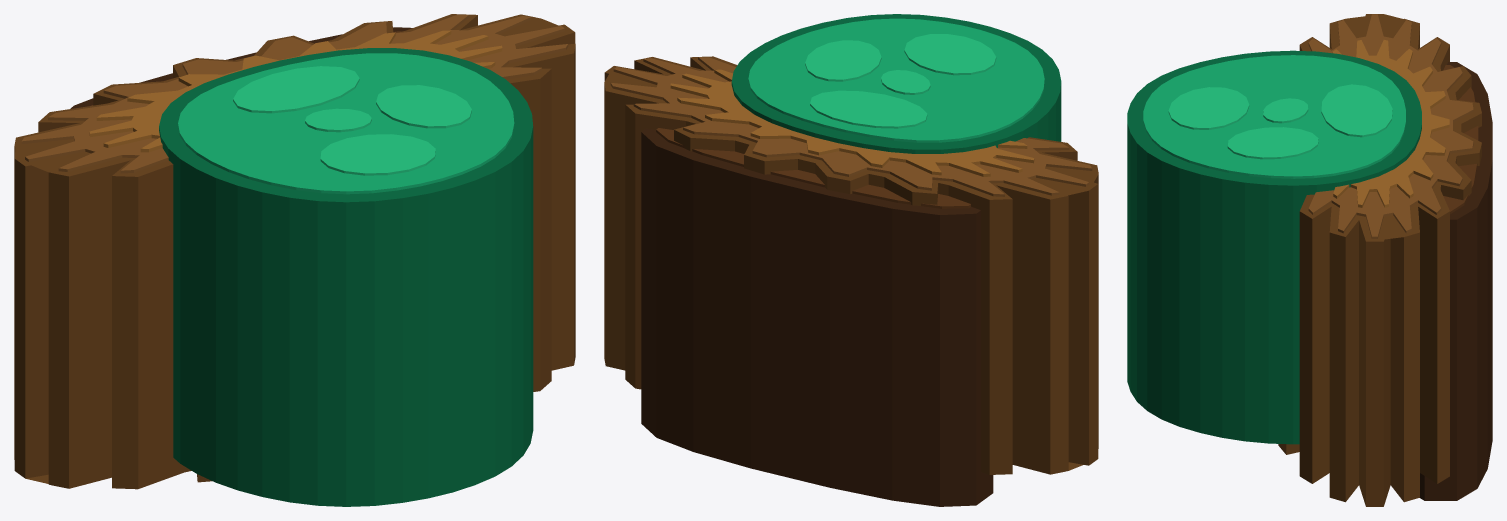
File: bag_ovo_ninho.fbx
3 renders of one model, left to right at view 1: azimuth 30°, elevation 25°; view 2: azimuth 150°, elevation 25°; view 3: azimuth 270°, elevation 25°, orthographic. The views are drawn at different scales.
Parts seen in each view (by area): view 1: bag_ovo_ninho_mochila; view 2: bag_ovo_ninho_mochila; view 3: bag_ovo_ninho_mochila.
Boxes of the visible parts, box(x1,y1,x2,y2) form: bag_ovo_ninho_mochila: box(14, 14, 575, 506); bag_ovo_ninho_mochila: box(604, 14, 1098, 506); bag_ovo_ninho_mochila: box(1127, 14, 1492, 506).
Bounding box in the file's own units: 3.02 × 1.91 × 2.05.
Materials: 1 (1 with a texture image).
